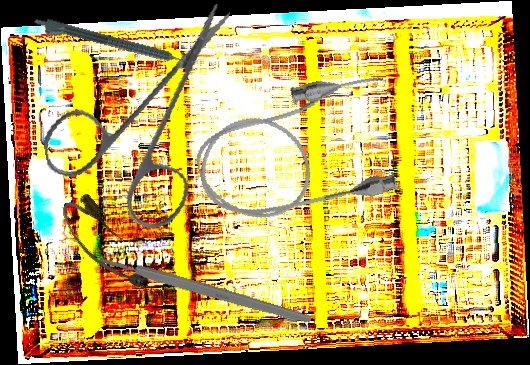Cannula: (184, 65, 411, 236), (54, 189, 156, 304)
Handpiece: (31, 14, 196, 76)
Iris Scissors: (23, 1, 268, 247)
Scalpel Handle: (98, 253, 313, 326)
